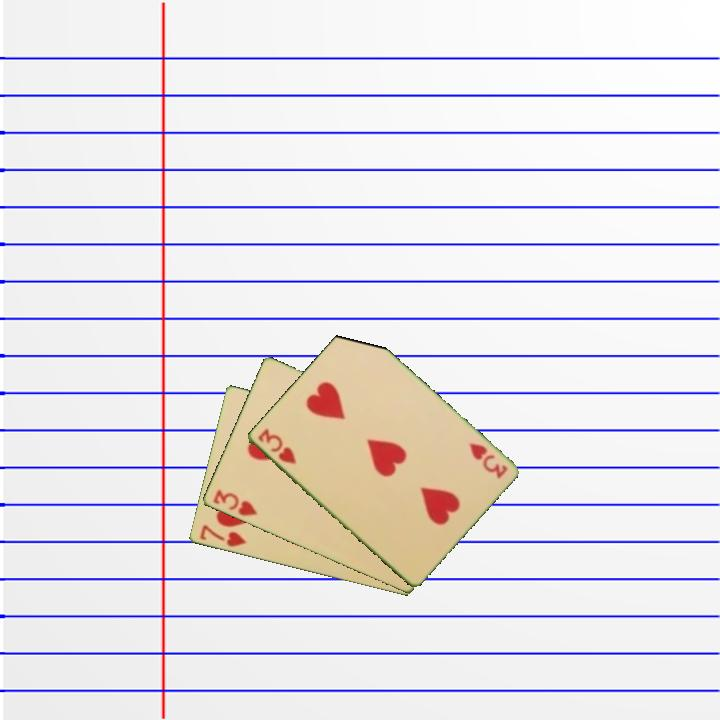3h: (466, 439, 510, 482), (254, 425, 299, 467), (209, 486, 260, 519)
7h: (196, 521, 249, 550)
